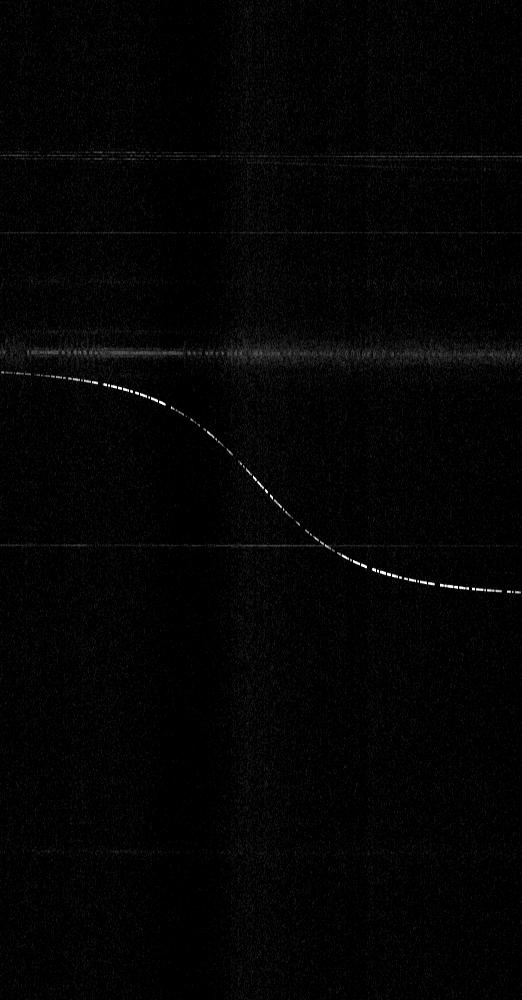signal: (0, 0, 521, 999)
